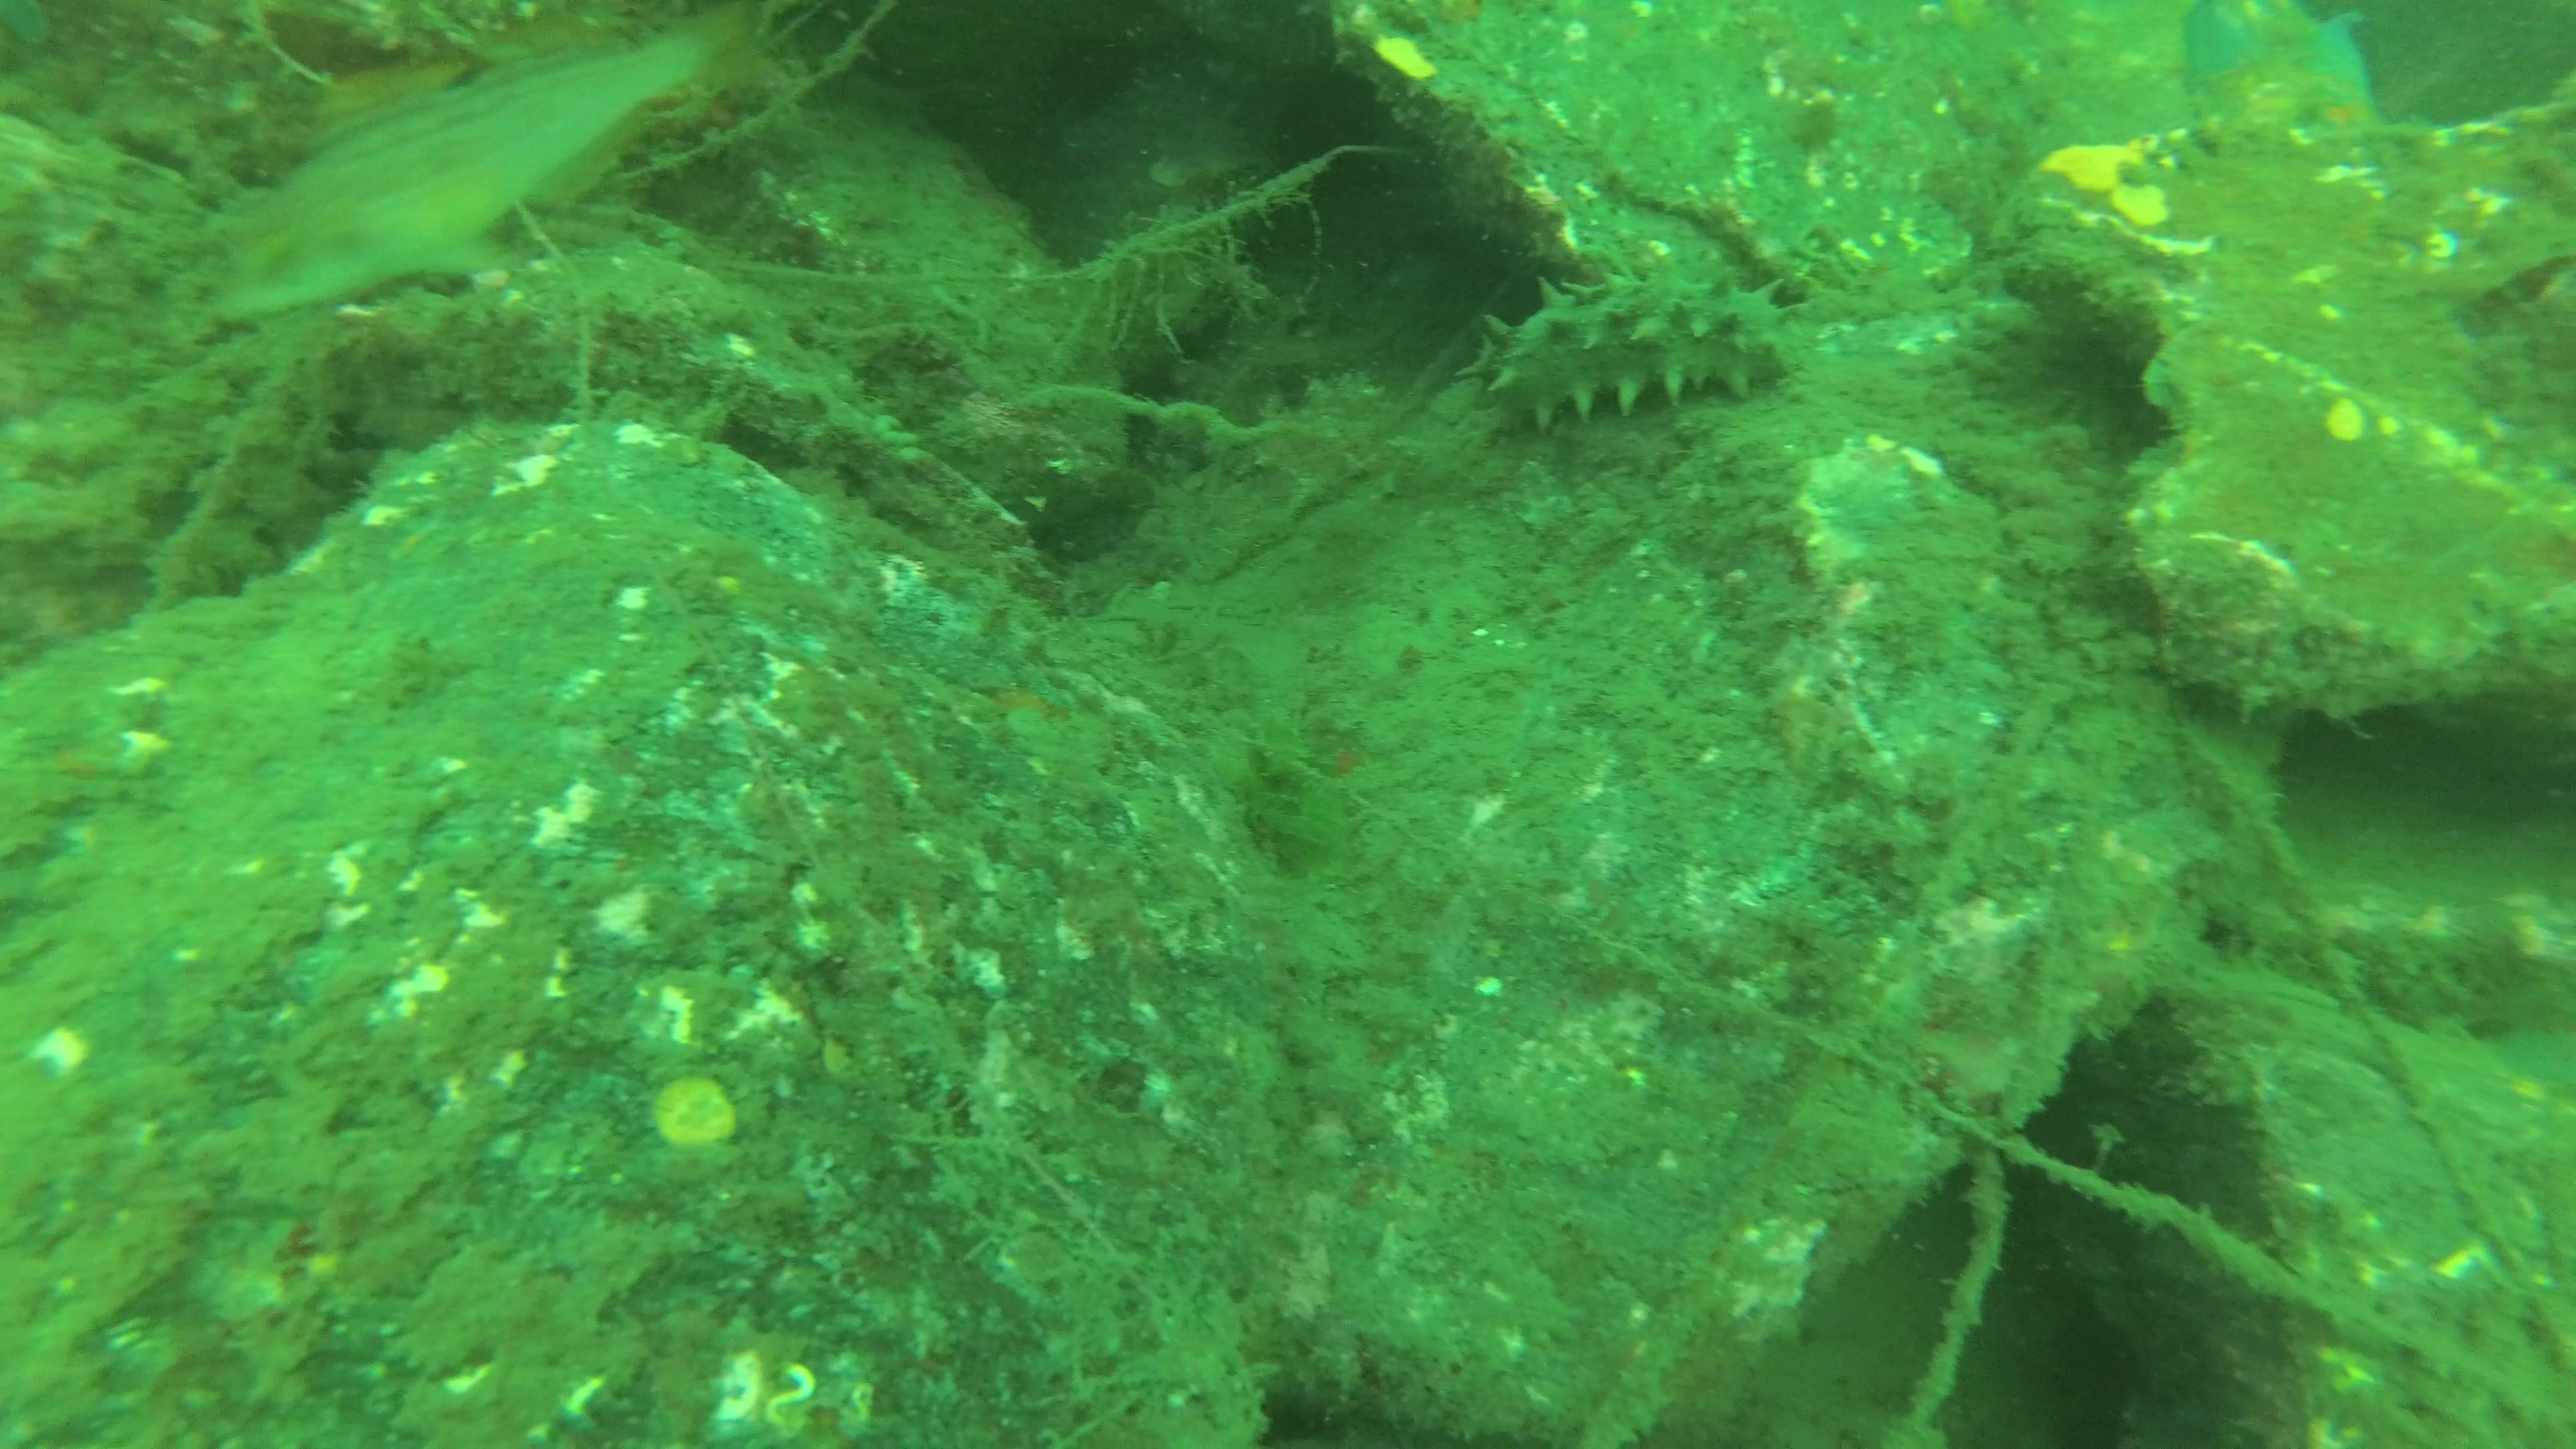holothurian: (1458, 267, 1810, 435)
starfish: (2192, 2, 2374, 166)
